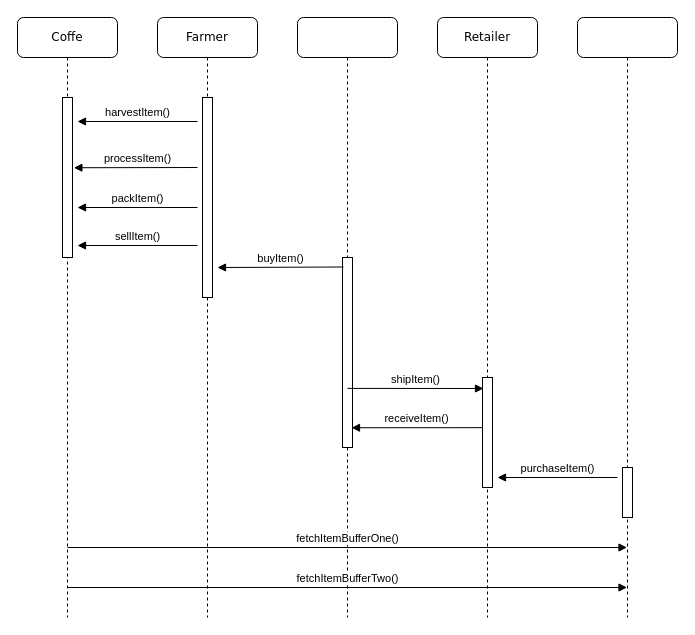
This 695x635 diagram has some shape labels left out. Each missing label, with the box of its shape:
Consumer: (576, 16, 678, 618)
Distributor: (296, 16, 398, 618)
